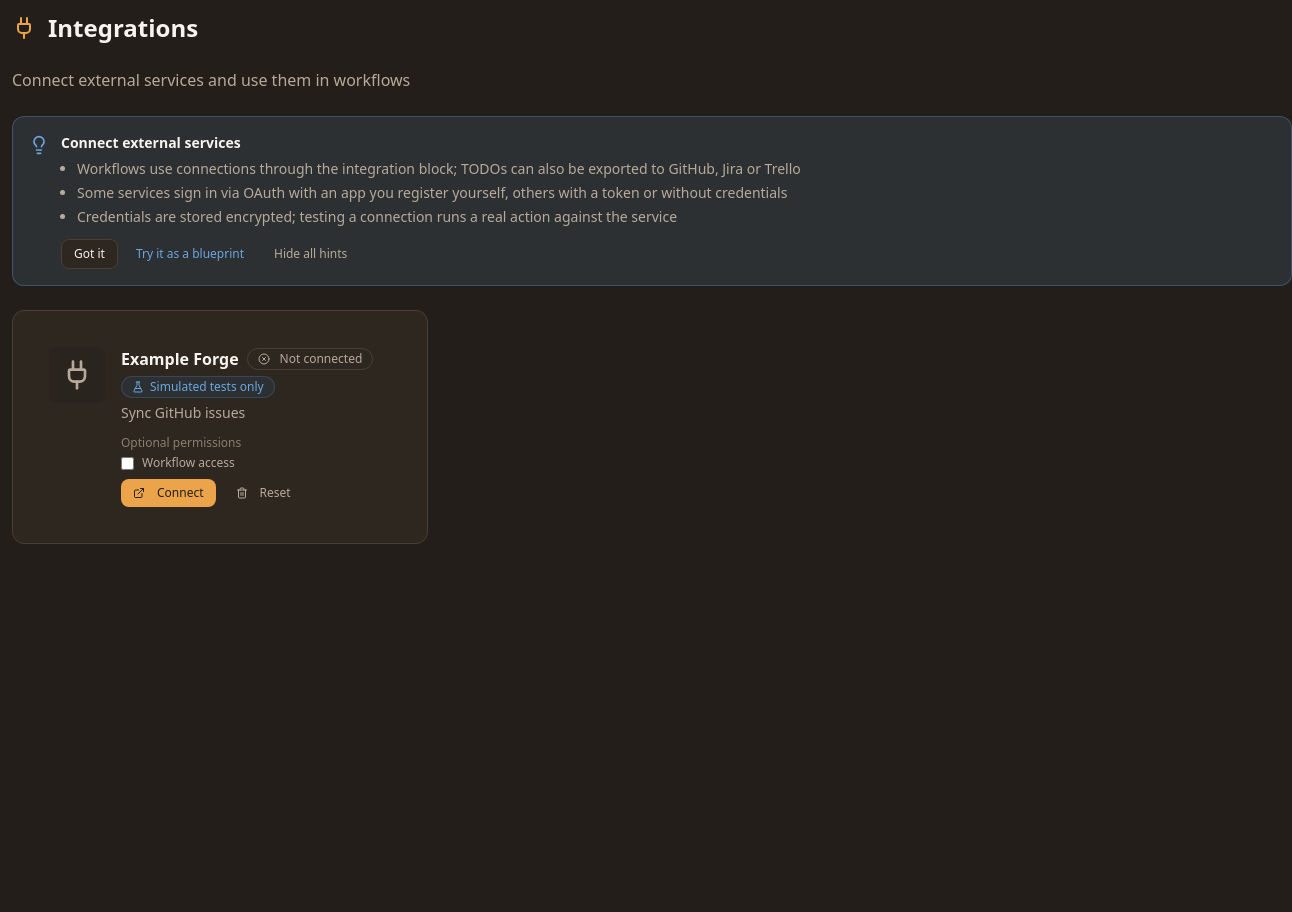
Test: Integrations — verification notice › marks a simulated provider on its card and explains it when selected
expect the text "Simulated tests only" is shown: met, box [121, 376, 275, 398]
Click the heading "Example Forge" at (180,359), box [121, 347, 239, 371]
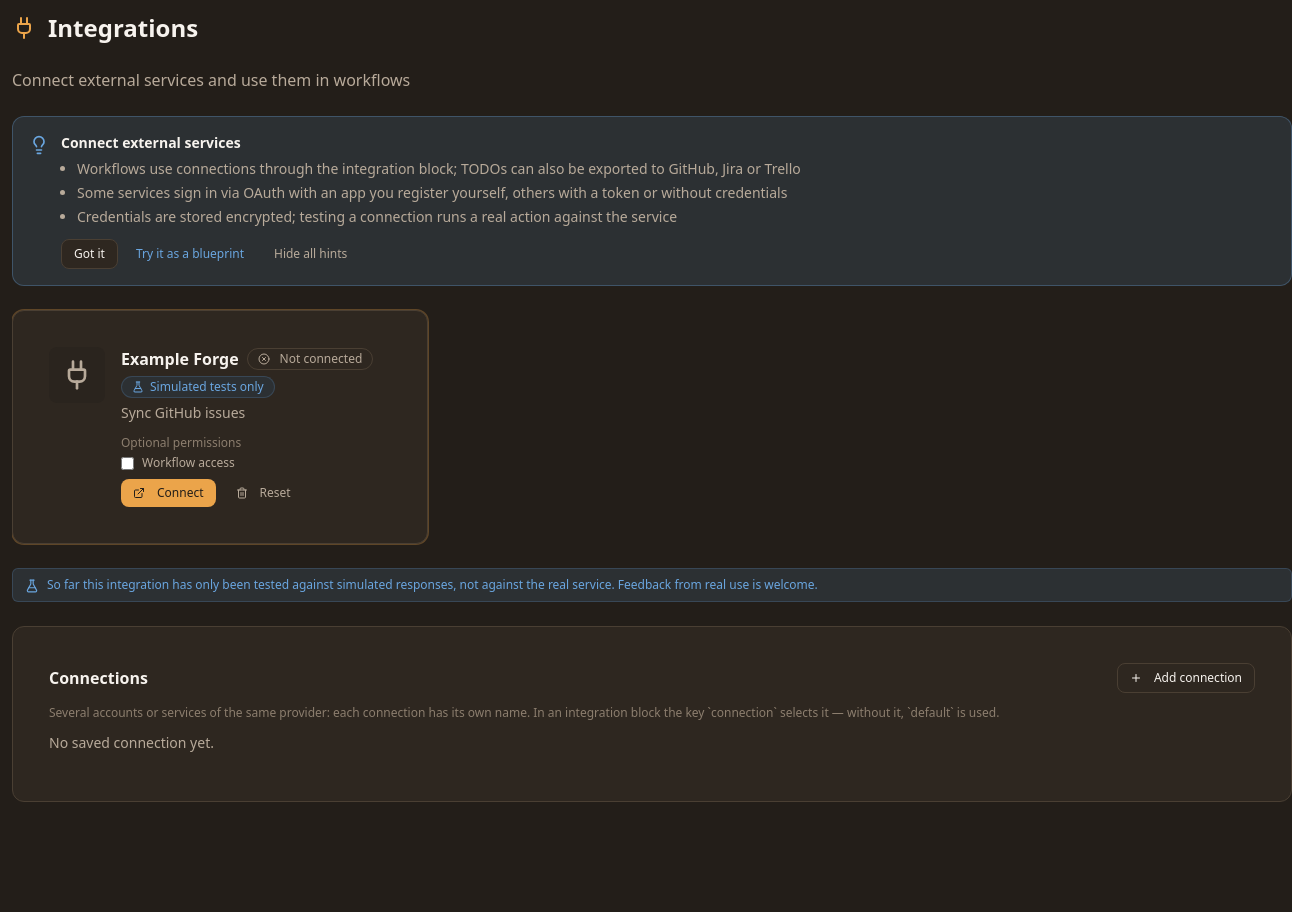
expect the text "not against the real service" is shown: met, box [47, 576, 818, 593]
